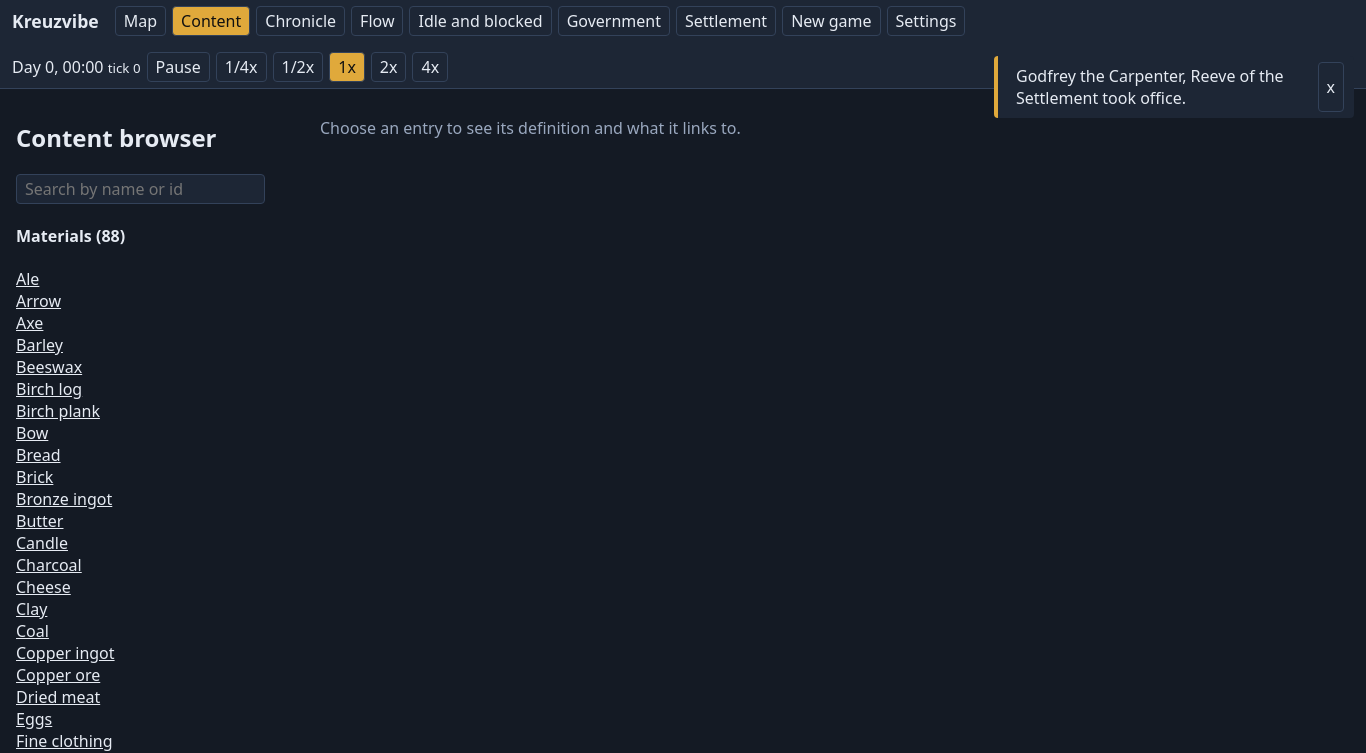
Scenario: ContentScreen › links a recipe to its inputs and a material back to the recipes that use it
Type "bake_bread" into the search field named "Search content" at x=140, y=189, box [16,174,265,204]
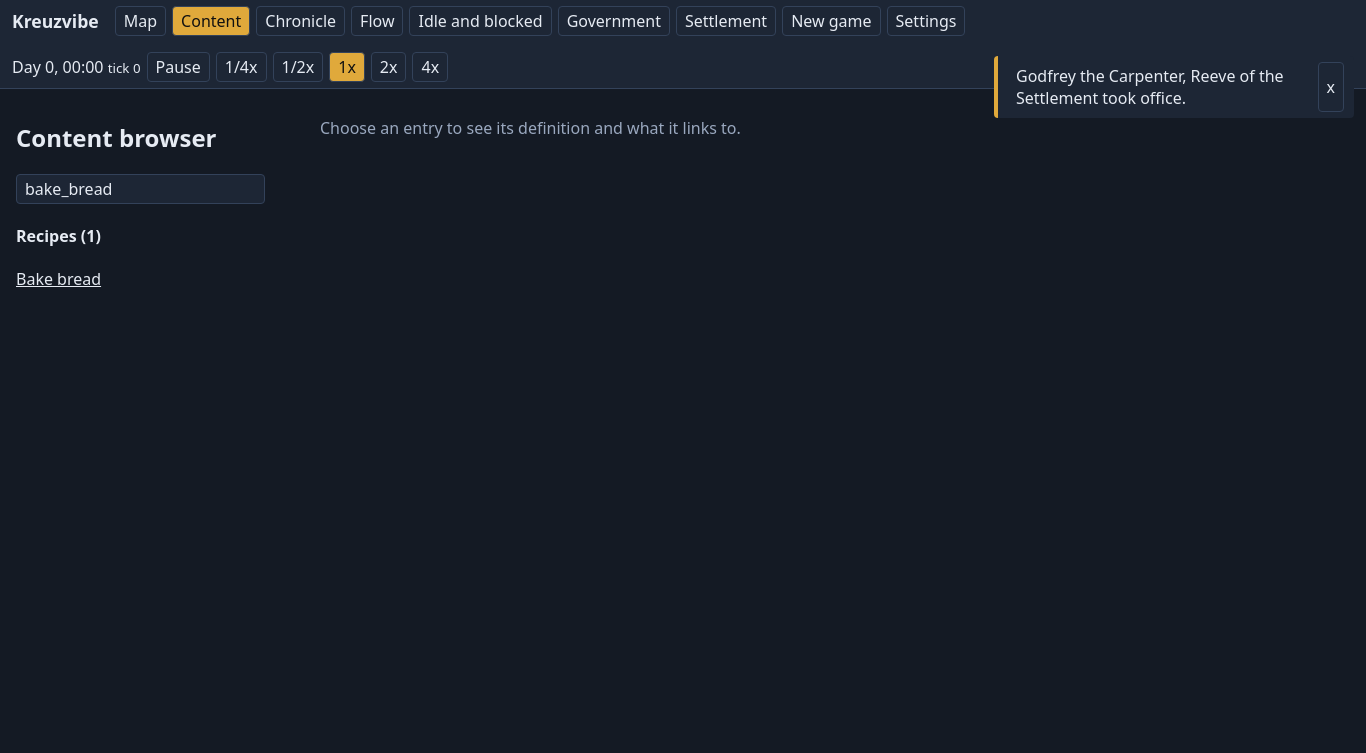
Click the button "Bake bread" at x=59, y=279, box [16,268,101,290]
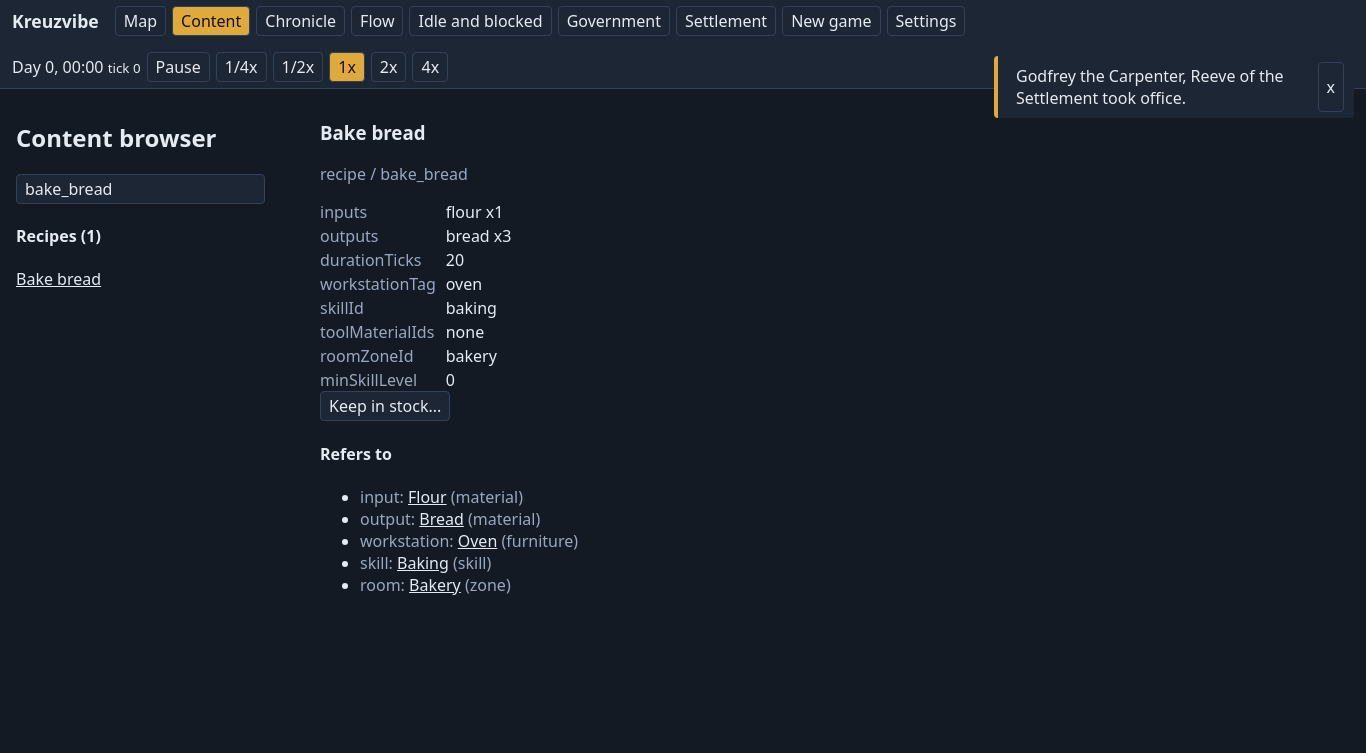
Click the button "Flour" at x=427, y=497, box [408,486,447,508]
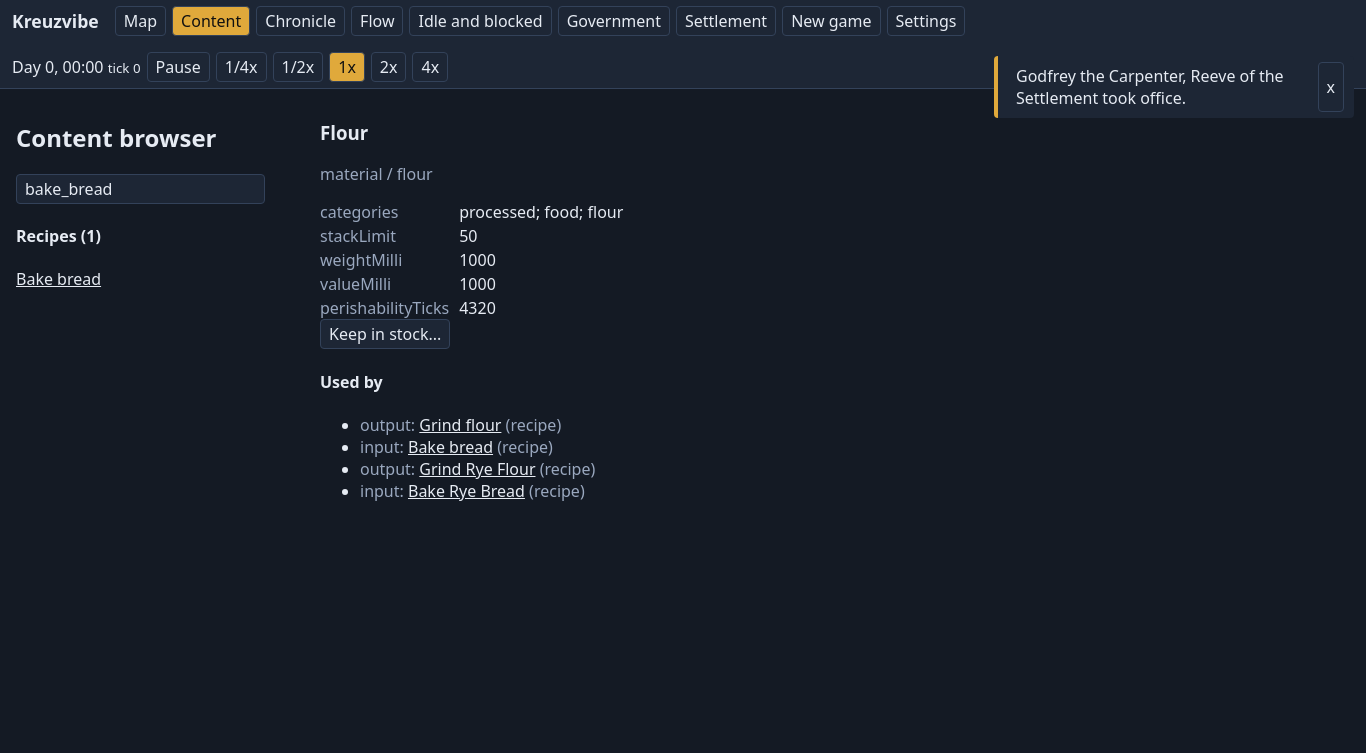
Result: the heading "Used by" is shown at [320,371,383,393]
Click the button "Bake bread" below "Used by" at x=451, y=447, box [408,436,493,458]
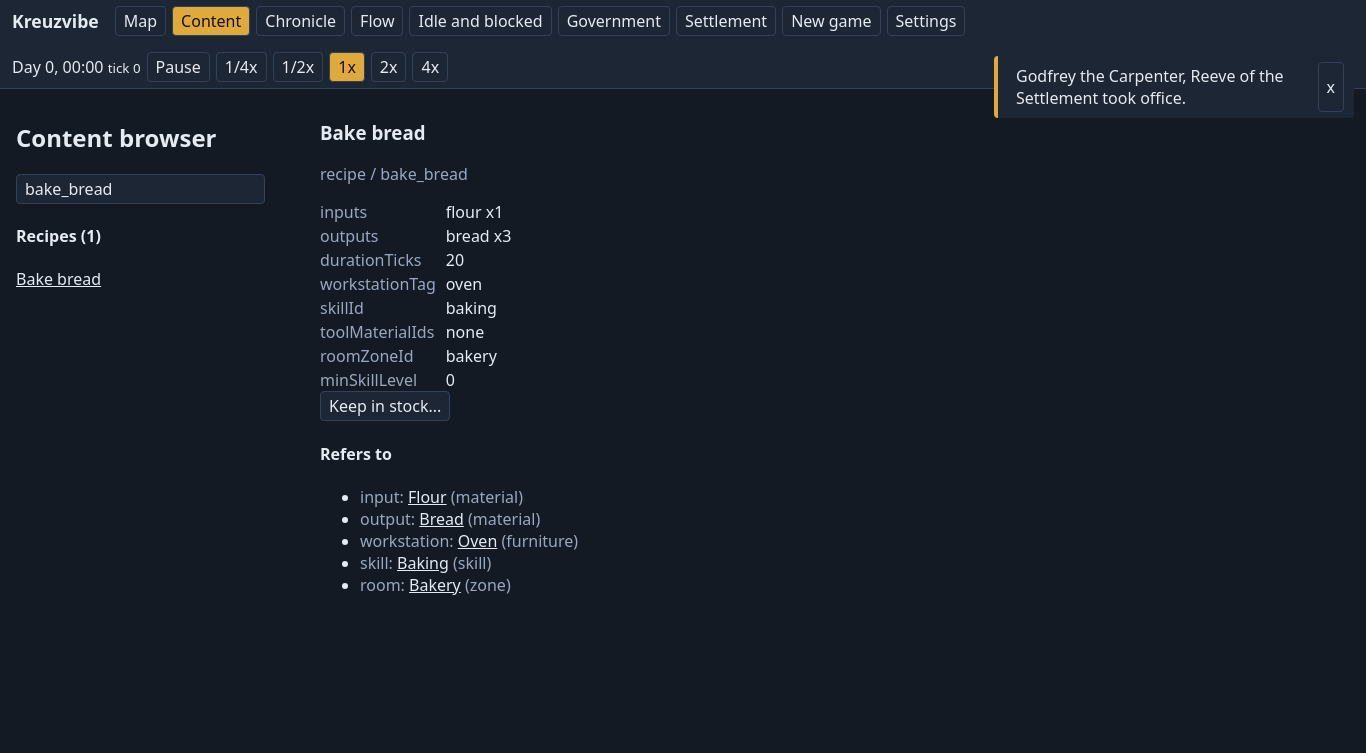
Result: the element "Bake bread" is shown at [320,120,578,596]
Result: the button "Oven" is shown at [458,530,497,552]
